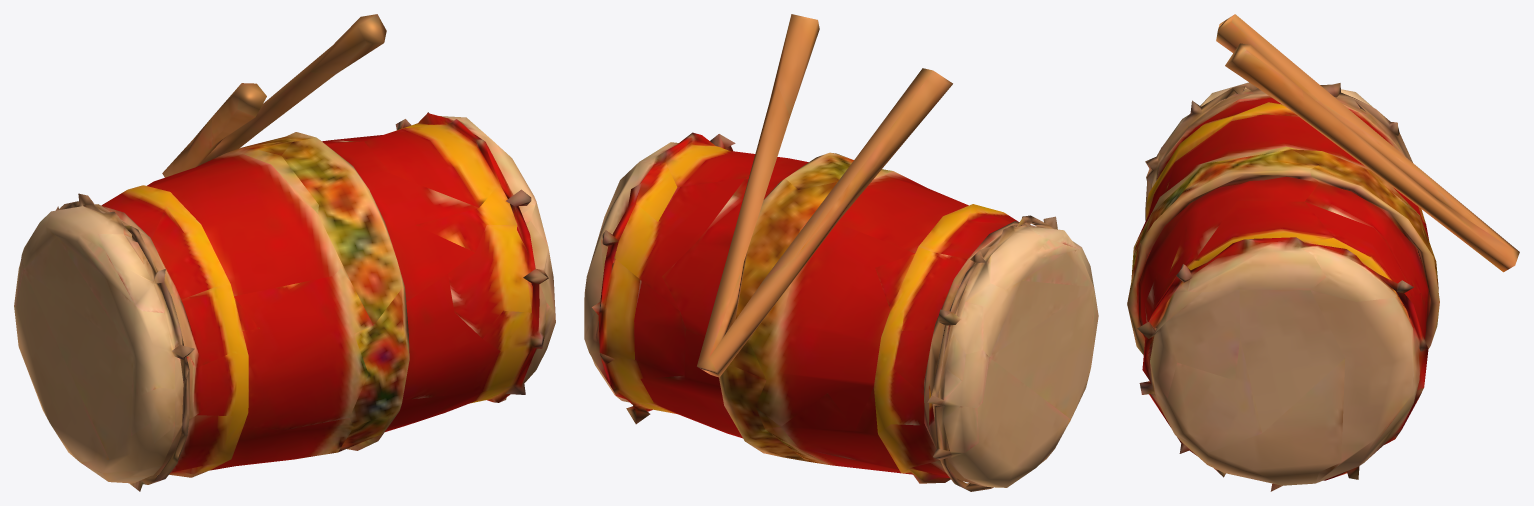
File: dhol.glb
The picture shows the model from 3 angles, left to right: view 1: azimuth 30°, elevation 25°; view 2: azimuth 150°, elevation 25°; view 3: azimuth 270°, elevation 25°; orthographic projection. The views are drawn at different scales.
Parts seen in each view (by area): view 1: tripo_node_2ff3a343-000b-431a-b65d-a56214de2618; view 2: tripo_node_2ff3a343-000b-431a-b65d-a56214de2618; view 3: tripo_node_2ff3a343-000b-431a-b65d-a56214de2618.
Part boxes in pixels (x1,y1,x2,y2): tripo_node_2ff3a343-000b-431a-b65d-a56214de2618: (14,14,555,491); tripo_node_2ff3a343-000b-431a-b65d-a56214de2618: (584,14,1098,491); tripo_node_2ff3a343-000b-431a-b65d-a56214de2618: (1127,14,1519,491).
Size of the model in its own units: 0.9794 by 0.9542 by 0.8585.
Materials: 1 (1 with a texture image).
